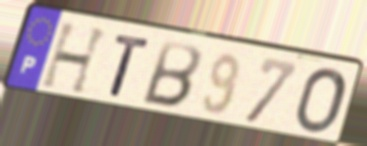7: (246, 56, 301, 126)
9: (201, 50, 246, 117)
B: (138, 38, 203, 111)
H: (38, 20, 112, 97)
O: (293, 66, 348, 135)
T: (108, 33, 154, 100)
